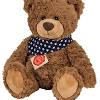teddy: (2, 1, 99, 100)
